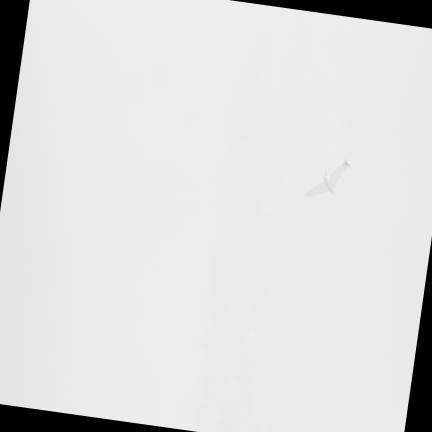Shahed: (305, 159, 348, 196)
